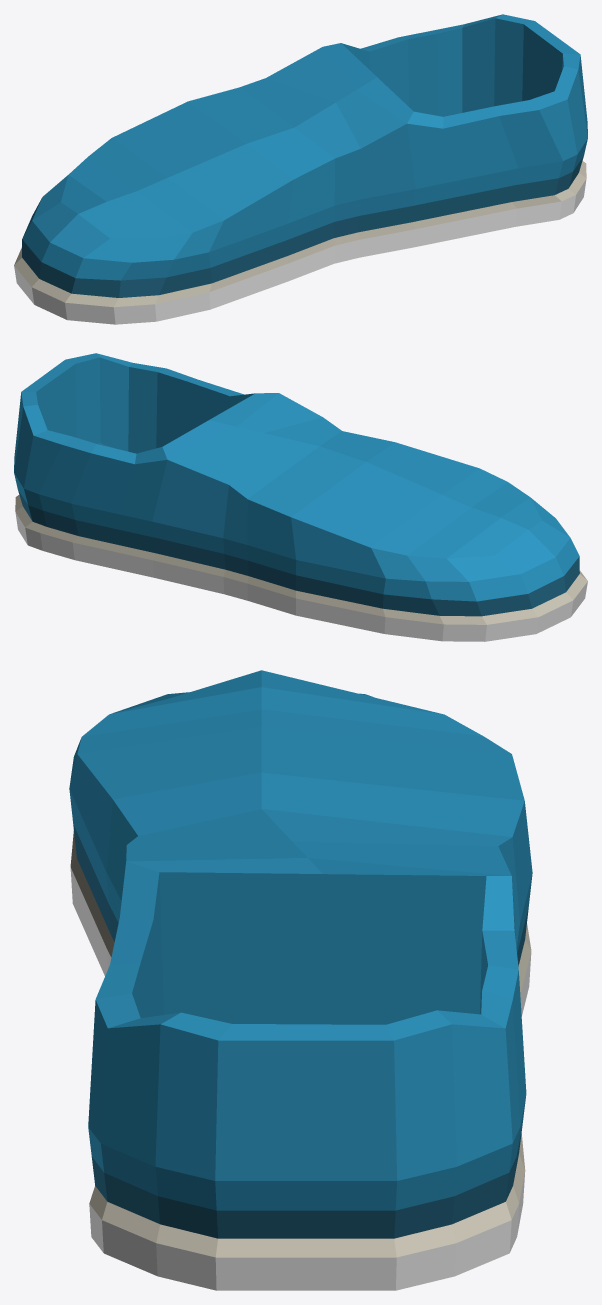
The model's file is shoe.fbx.
3 renders of one model, top to bottom at view 1: azimuth 30°, elevation 25°; view 2: azimuth 150°, elevation 25°; view 3: azimuth 270°, elevation 25°, orthographic. The views are drawn at different scales.
Visible parts, largest first — view 1: Plane; view 2: Plane; view 3: Plane.
Part boxes in pixels (left/top/right/bottom): Plane: left=14, top=14, right=587, bottom=324; Plane: left=14, top=353, right=587, bottom=641; Plane: left=69, top=670, right=532, bottom=1290.
Bounding box in the file's own units: 232 × 53.06 × 88.53.
